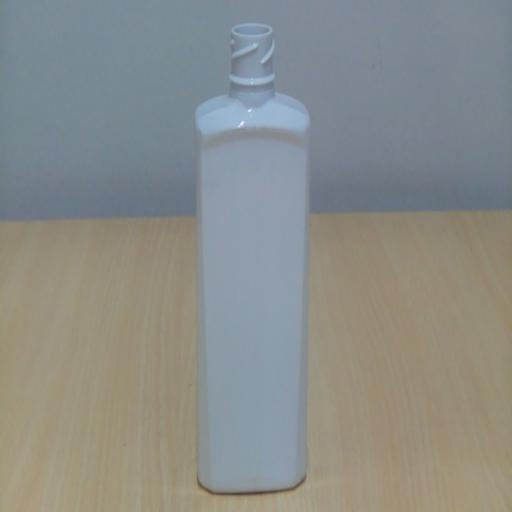Good: (186, 11, 322, 508)
